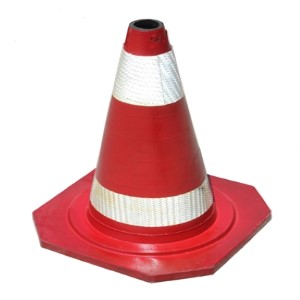traffic cone: (32, 19, 272, 283)
